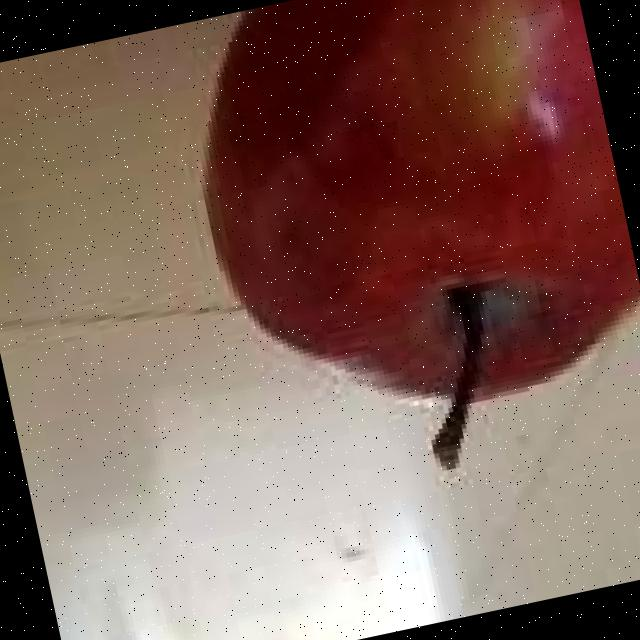Good_Apple 10-21 days: (204, 0, 640, 466)
